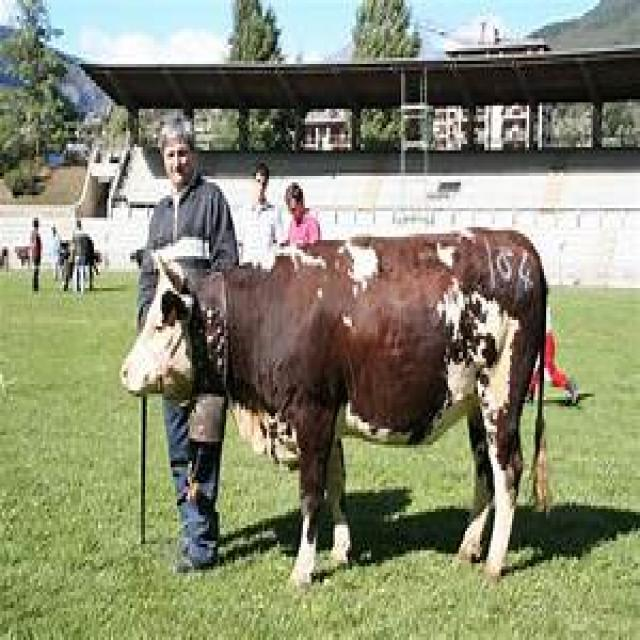cow: (119, 227, 572, 592)
